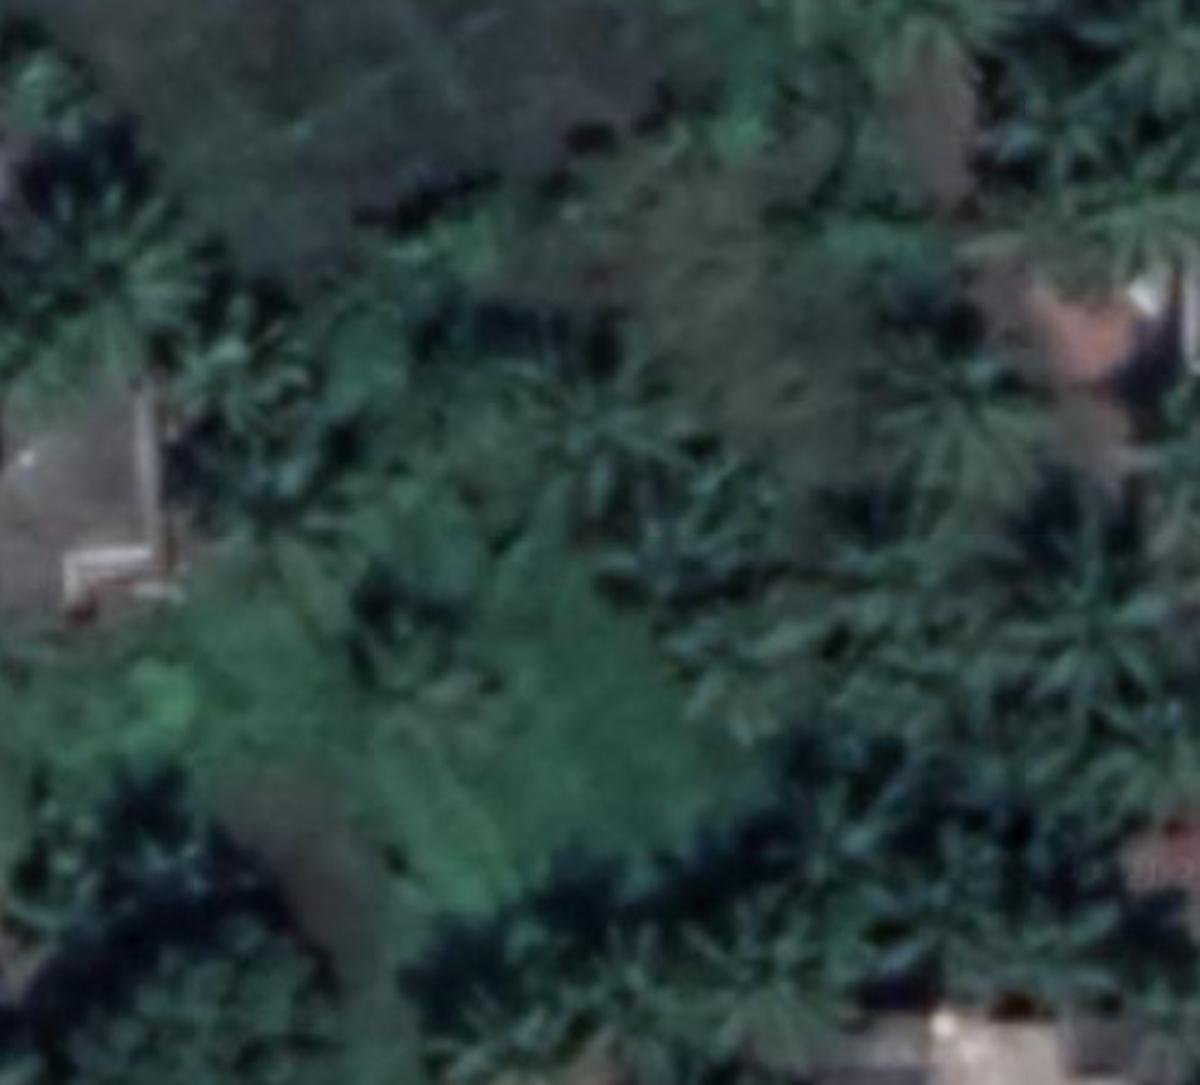coconut: (868, 316, 1074, 502), (156, 286, 318, 462), (680, 887, 841, 1058), (967, 39, 1133, 194), (1020, 548, 1164, 707), (597, 476, 764, 608), (663, 597, 807, 739), (57, 185, 187, 313)
